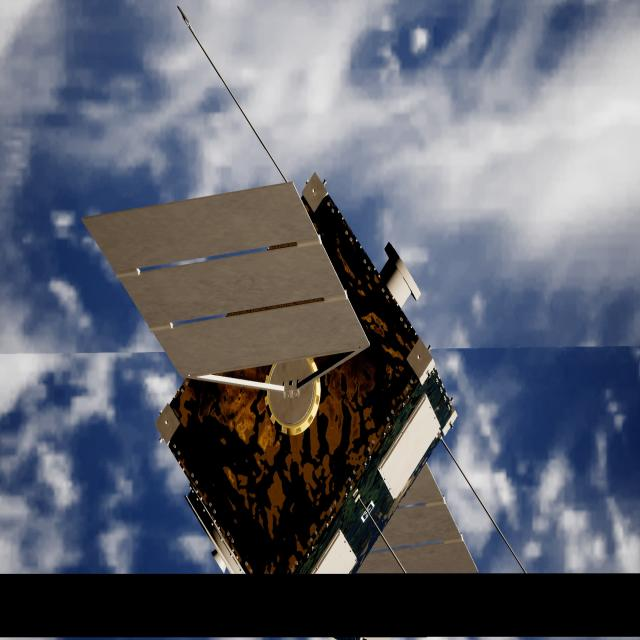satellite: (84, 177, 474, 576)
